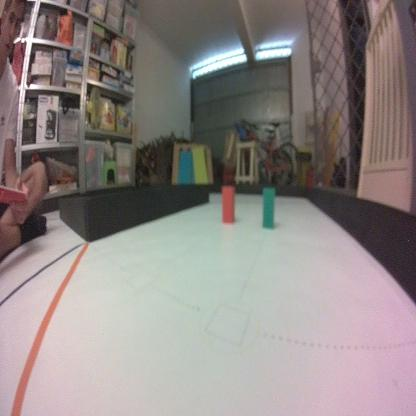green: (262, 186, 274, 230)
red: (221, 186, 235, 223)
